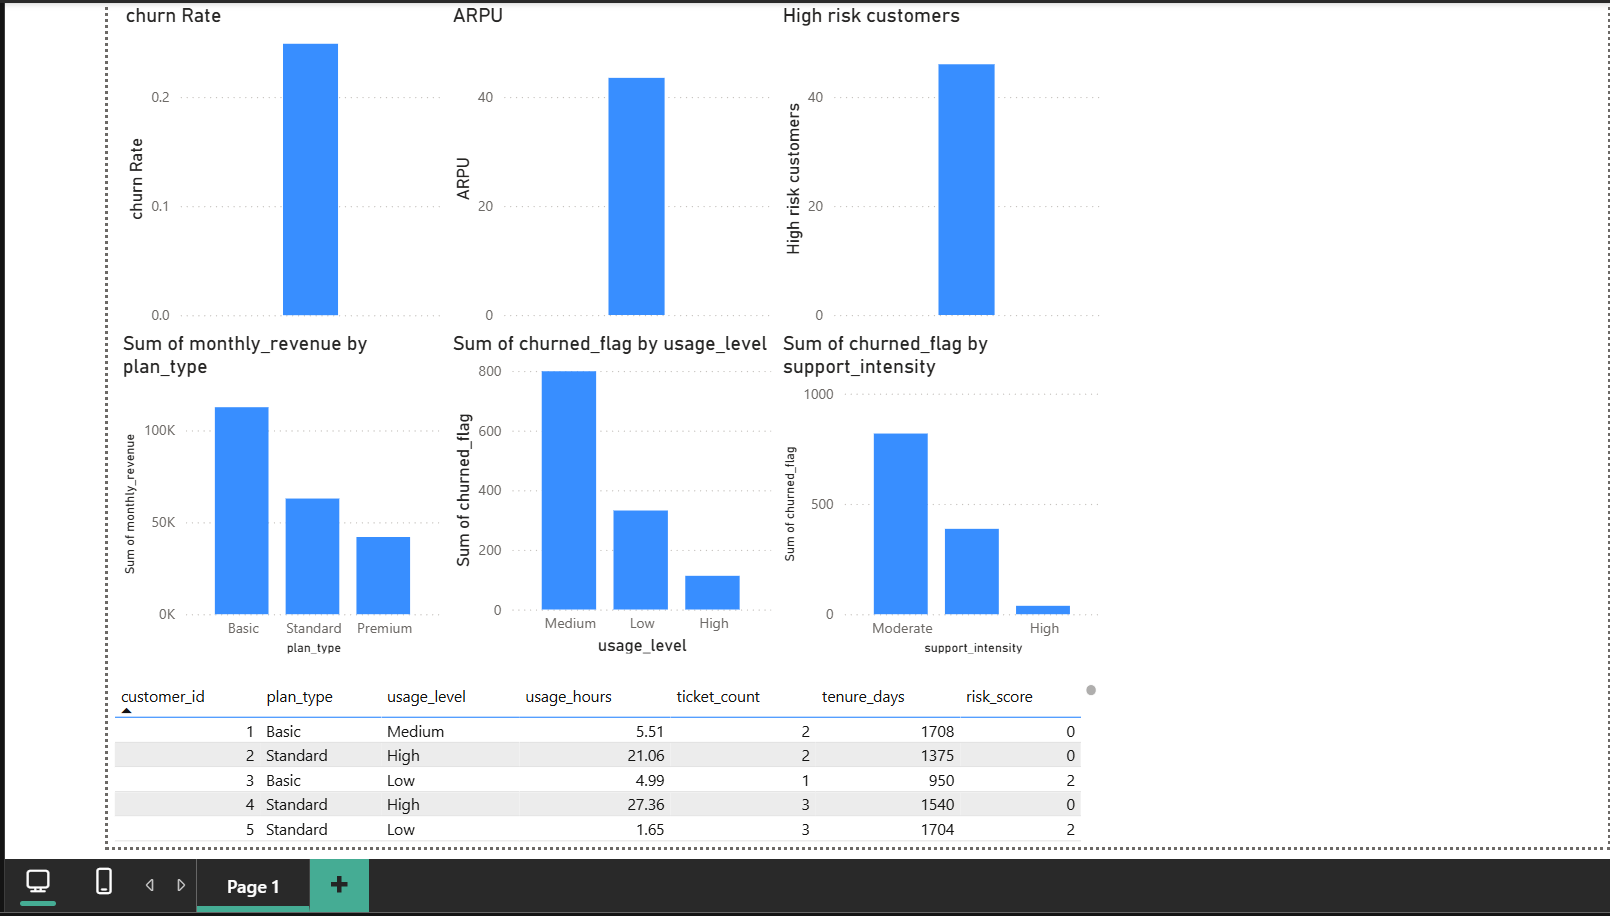

The page's visual inventory and layout, read from the dashboard file:
{"tool":"powerbi","page":{"name":"Page 1","canvas":[1280,720],"ordinal":0},"visuals":[{"type":"clusteredColumnChart","fields":{"Y":["customer_analysis_dataset.churn Rate"]},"box":[10,0,280,280],"z":0},{"type":"clusteredColumnChart","fields":{"Y":["customer_analysis_dataset.ARPU"]},"box":[289.2,0,281.4,279.8],"z":1000},{"type":"clusteredColumnChart","fields":{"Y":["customer_analysis_dataset.High risk customers"]},"box":[570.6,0,281.4,279.8],"z":2000},{"type":"columnChart","fields":{"Category":["customer_analysis_dataset.plan_type"],"Y":["Sum(customer_analysis_dataset.monthly_revenue)"]},"box":[7.8,279.8,281.4,279.8],"z":3000},{"type":"columnChart","fields":{"Category":["customer_analysis_dataset.usage_level"],"Y":["Sum(customer_analysis_dataset.churned_flag)"]},"box":[289.2,279.8,281.4,279.8],"z":4000},{"type":"columnChart","fields":{"Category":["customer_analysis_dataset.support_intensity"],"Y":["Sum(customer_analysis_dataset.churned_flag)"]},"box":[570.6,279.8,281.4,279.8],"z":5000},{"type":"tableEx","fields":{"Values":["customer_analysis_dataset.customer_id","customer_analysis_dataset.plan_type","customer_analysis_dataset.usage_level","customer_analysis_dataset.usage_hours","customer_analysis_dataset.ticket_count","customer_analysis_dataset.tenure_days","customer_analysis_dataset.risk_score"]},"box":[0,576,848,144],"z":5001}]}

Visuals, with their boxes in screenshot pixels (x1, y1, x2, y2):
clusteredColumnChart - customer_analysis_dataset.churn Rate: left=0, top=0, right=334, bottom=335
clusteredColumnChart - customer_analysis_dataset.ARPU: left=333, top=0, right=670, bottom=335
clusteredColumnChart - customer_analysis_dataset.High risk customers: left=670, top=0, right=1007, bottom=335
columnChart - customer_analysis_dataset.plan_type x Sum(customer_analysis_dataset.monthly_revenue): left=0, top=335, right=333, bottom=670
columnChart - customer_analysis_dataset.usage_level x Sum(customer_analysis_dataset.churned_flag): left=333, top=335, right=670, bottom=670
columnChart - customer_analysis_dataset.support_intensity x Sum(customer_analysis_dataset.churned_flag): left=670, top=335, right=1007, bottom=670
tableEx - customer_analysis_dataset.customer_id x customer_analysis_dataset.plan_type: left=0, top=689, right=1002, bottom=861
